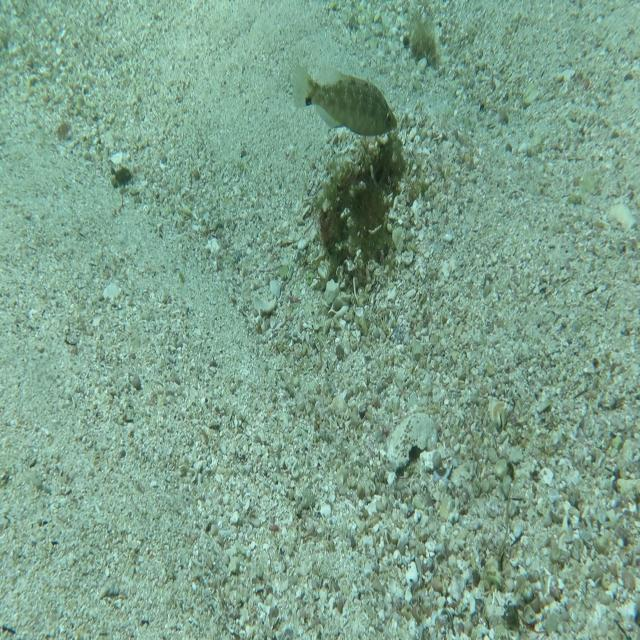DROP: (290, 60, 398, 138)
core_nest: (368, 145, 399, 182)
nest: (318, 126, 416, 270)
nest_material: (397, 128, 407, 144)
vegetation: (409, 14, 441, 66), (112, 160, 132, 187)
